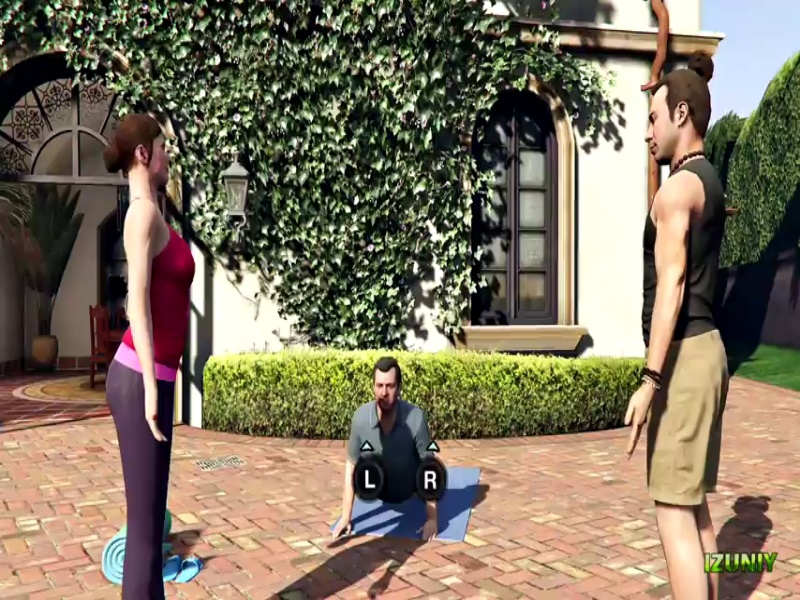licenseplate: (458, 342, 544, 355)
